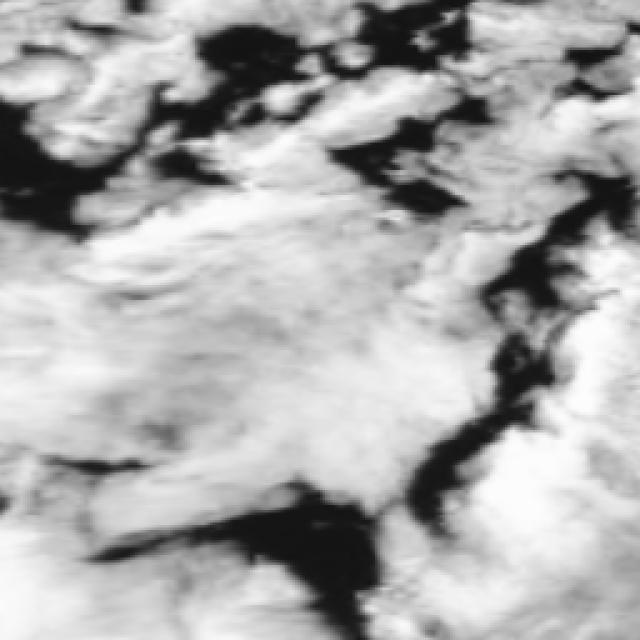CB: (108, 220, 431, 440)
